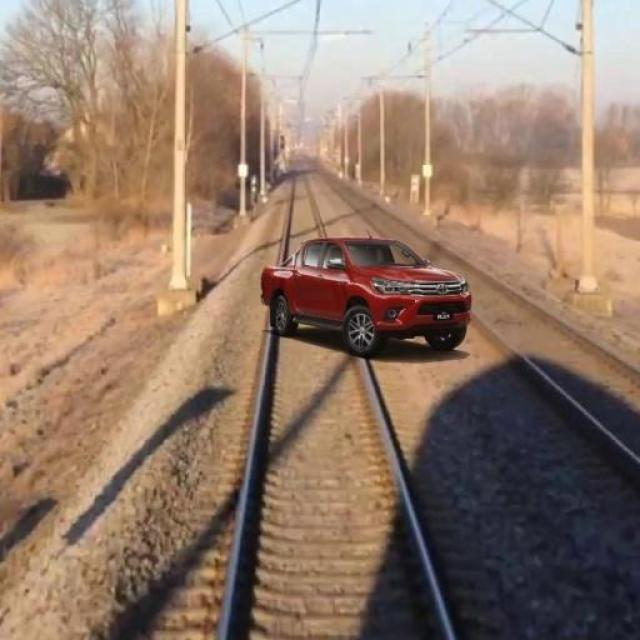vehicle: (255, 232, 480, 352)
